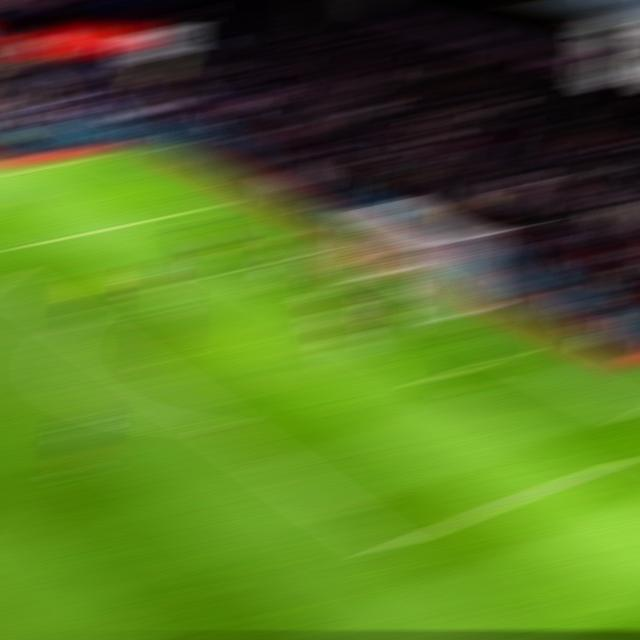bigarea_bottom_inner: (370, 539, 406, 559)
bigarea_top_outter: (198, 201, 228, 210)
bottom_arc_area_intersection: (203, 420, 237, 435)
corner: (97, 153, 129, 163)
smallarea_bottom_inner: (413, 374, 447, 388)
smallarea_bottom_outter: (496, 349, 526, 359)
smallarea_top_inner: (220, 267, 250, 277)
smallarea_top_outter: (294, 250, 322, 256)
top_arc_area_intersection: (59, 318, 89, 328)
